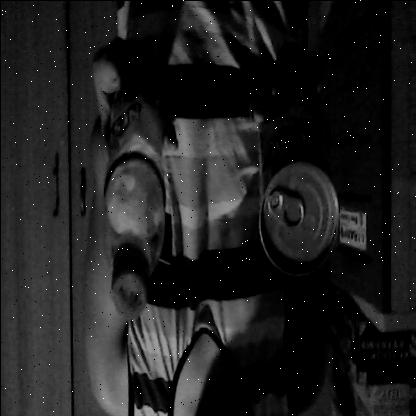Plastic Bottle: (92, 63, 175, 332)
